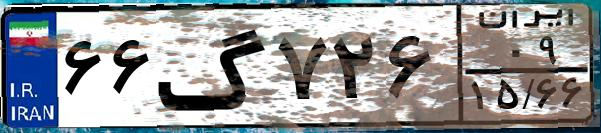0: (508, 27, 537, 80)
1: (470, 70, 495, 125)
2: (330, 28, 385, 110)
5: (495, 70, 520, 125)
6: (385, 28, 445, 110), (57, 26, 110, 100), (110, 28, 156, 98), (560, 70, 590, 125), (535, 70, 560, 125)
7: (270, 28, 330, 110)
9: (537, 27, 568, 80)
گ: (156, 12, 270, 120)
